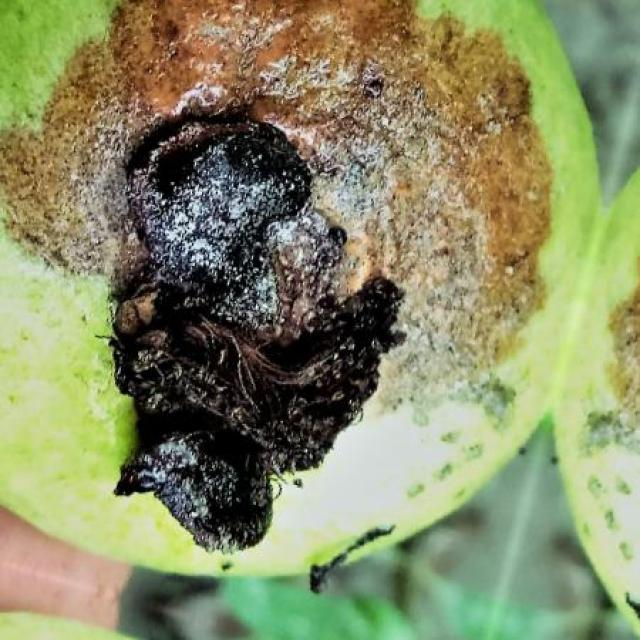Styler and Root: (0, 0, 640, 622)
